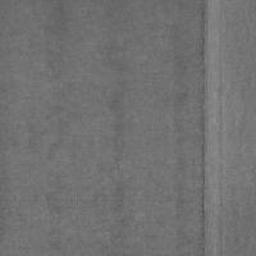Welding line: (198, 0, 209, 256)
